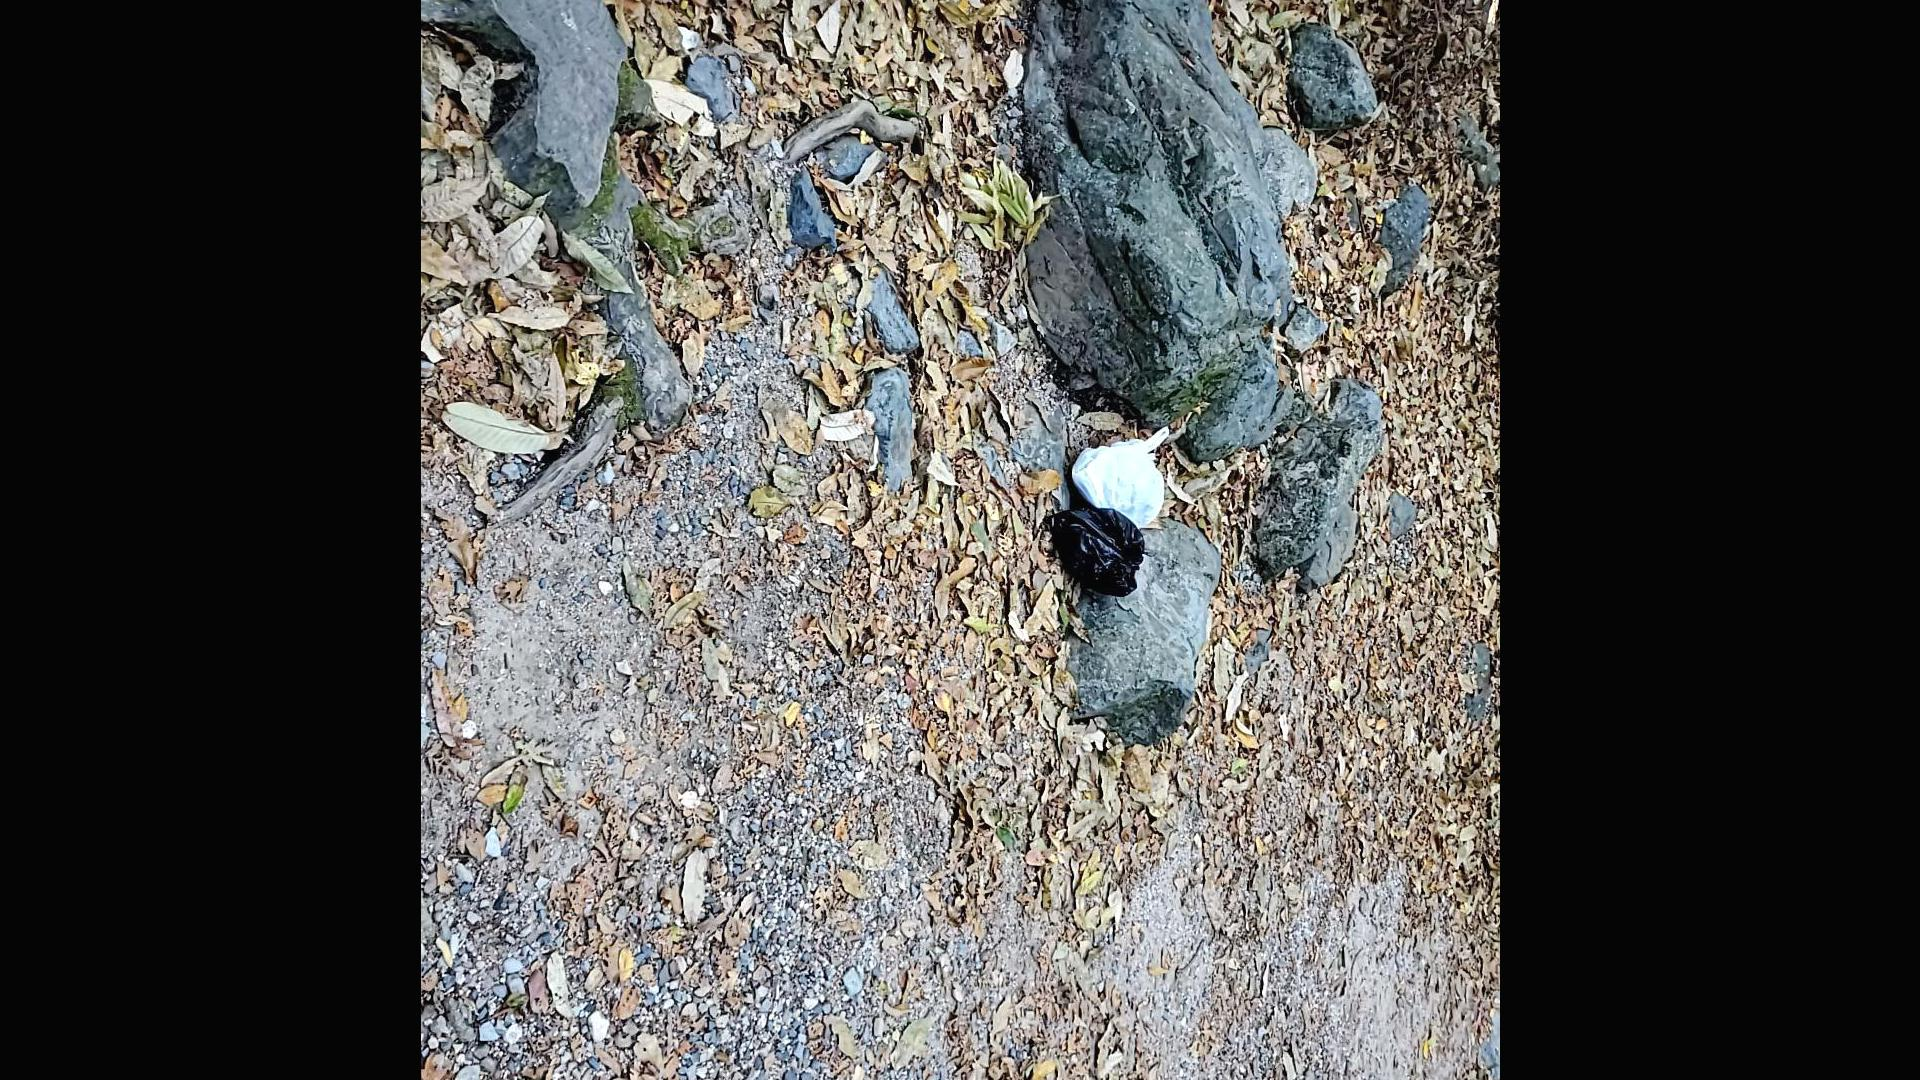black_bag: (1046, 501, 1149, 600)
white_bag: (1065, 422, 1176, 534)
